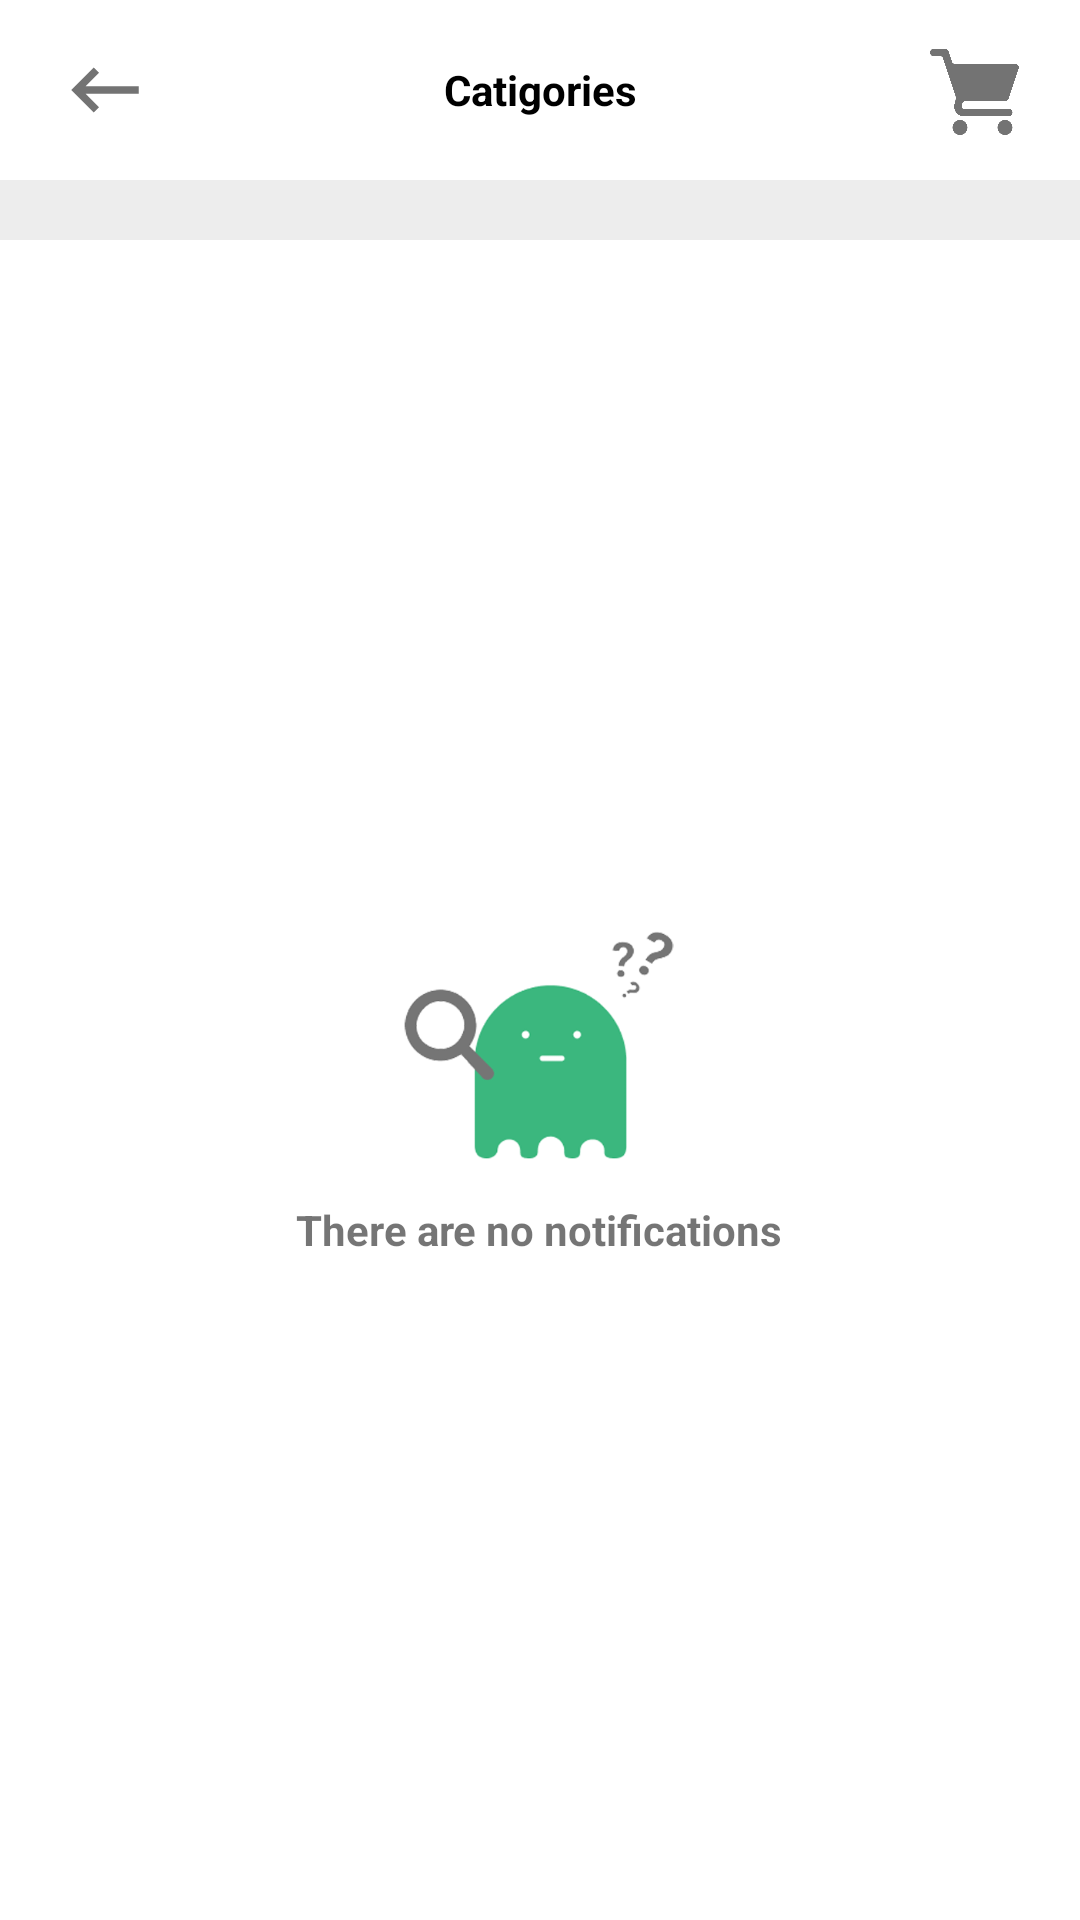

Icon bounding boxes for this 1080*1920 phone screenshot, format (x1, y1, x2, y2):
grocery store: (930, 49, 1019, 135)
